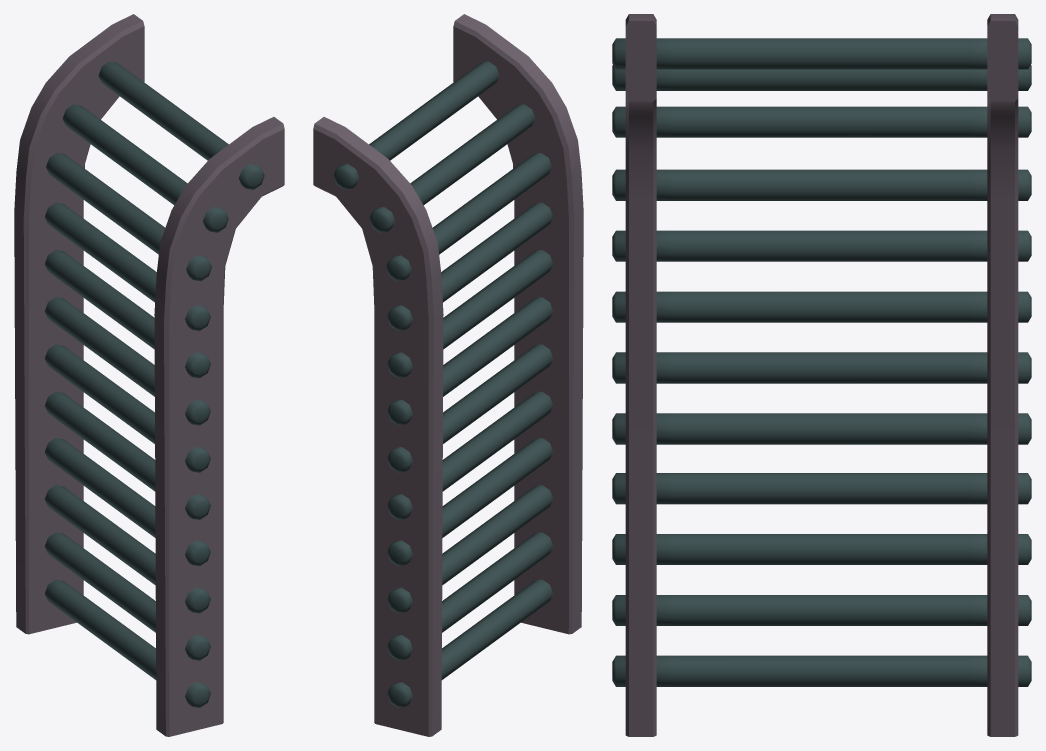
Rendered from GB_128_ladder_var01.glb.
3 views of the same model, side by side, from view 1: azimuth 30°, elevation 25°; view 2: azimuth 150°, elevation 25°; view 3: azimuth 270°, elevation 25° (orthographic). The views are drawn at different scales.
Parts seen in each view (by area): view 1: LadderVar01; view 2: LadderVar01; view 3: LadderVar01.
Boxes of the visible parts, x1,y1,x2,y2 form: LadderVar01: (14,14,284,736); LadderVar01: (313,14,583,736); LadderVar01: (612,14,1031,736).
Bounding box in the file's own units: 0.4723 × 2.21 × 1.11.
